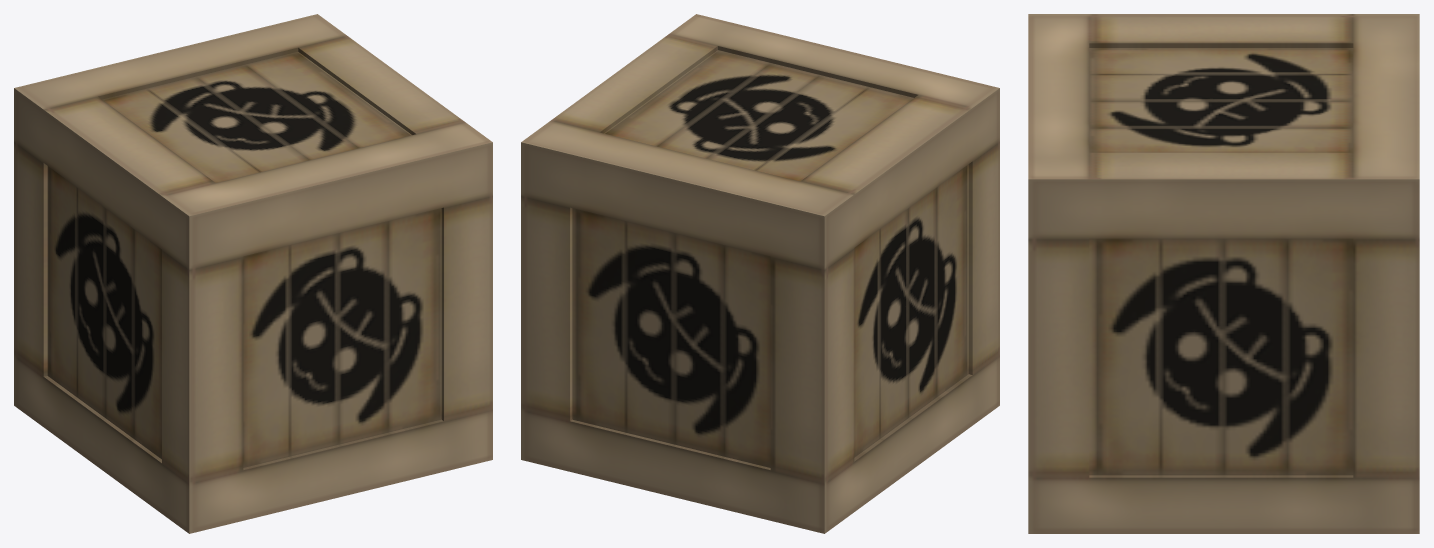
File: JunkoChanBox.fbx
3 renders of one model, left to right at view 1: azimuth 30°, elevation 25°; view 2: azimuth 150°, elevation 25°; view 3: azimuth 270°, elevation 25°, orthographic. The views are drawn at different scales.
Parts seen in each view (by area): view 1: obj1; view 2: obj1; view 3: obj1.
Part boxes in pixels (<box>): obj1: <box>14,14,492,533</box>; obj1: <box>521,14,999,533</box>; obj1: <box>1028,14,1419,533</box>.
Bounding box in the file's own units: 45.24 × 45.24 × 45.24.
